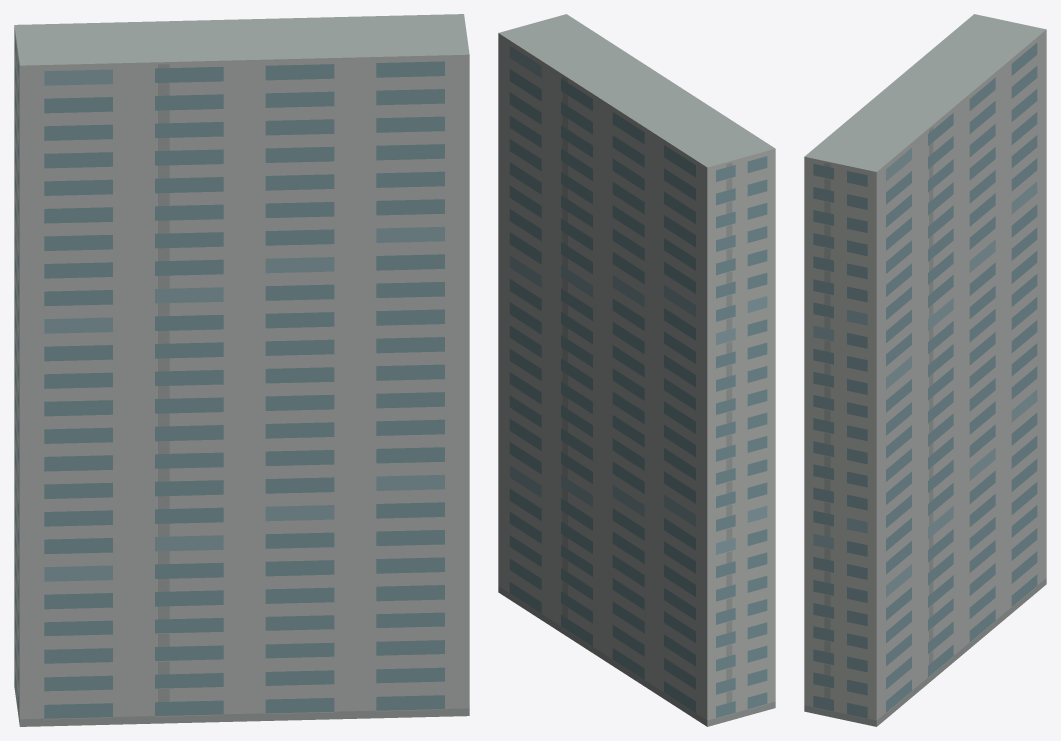
Rendered from residential-467325dd-3bf4-41c5-b521-5383435a4cd4.glb.
The picture shows the model from 3 angles, left to right: view 1: azimuth 30°, elevation 25°; view 2: azimuth 150°, elevation 25°; view 3: azimuth 270°, elevation 25°; orthographic projection. The views are drawn at different scales.
Visible parts, largest first — view 1: residential-467325dd-3bf4-41c5-b521-5383435a4cd4.tmp; view 2: residential-467325dd-3bf4-41c5-b521-5383435a4cd4.tmp; view 3: residential-467325dd-3bf4-41c5-b521-5383435a4cd4.tmp.
Boxes of the visible parts, x1=… form: residential-467325dd-3bf4-41c5-b521-5383435a4cd4.tmp: x1=14, y1=14, x2=469, y2=726; residential-467325dd-3bf4-41c5-b521-5383435a4cd4.tmp: x1=498, y1=14, x2=775, y2=726; residential-467325dd-3bf4-41c5-b521-5383435a4cd4.tmp: x1=804, y1=14, x2=1046, y2=726.
Size of the model in its own units: 44.73 by 73.2 by 28.98.
